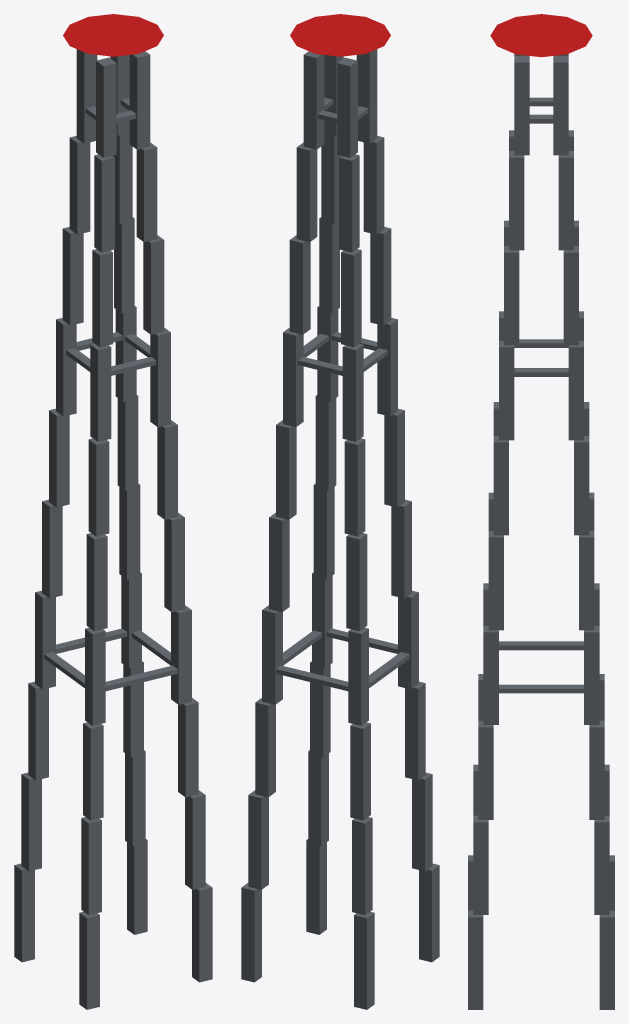
The model's file is tower_antenna.obj.
3 views of the same model, side by side, from view 1: azimuth 30°, elevation 25°; view 2: azimuth 150°, elevation 25°; view 3: azimuth 270°, elevation 25° (orthographic).
Visible parts, largest first — view 1: TowerAntenna; view 2: TowerAntenna; view 3: TowerAntenna.
Part boxes in pixels (x1=…): TowerAntenna: x1=14, y1=14, x2=212, y2=1009; TowerAntenna: x1=241, y1=14, x2=439, y2=1009; TowerAntenna: x1=468, y1=14, x2=614, y2=1009.
Bounding box in the file's own units: 4.3 × 30.5 × 4.3.
